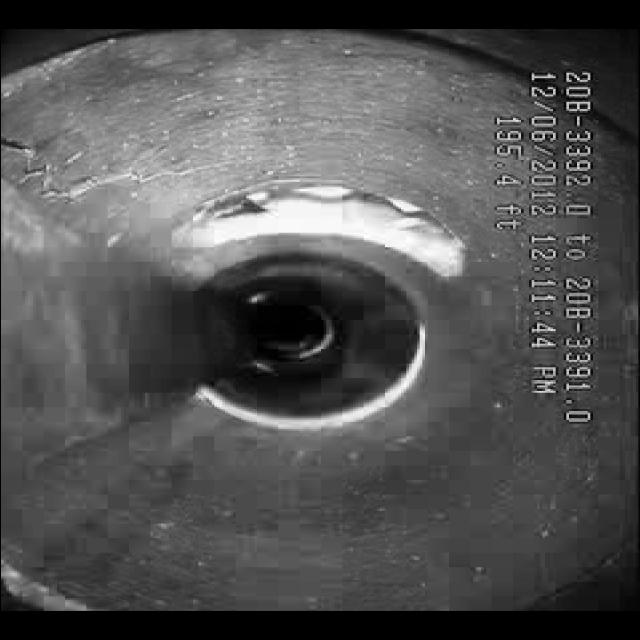Fracture: (11, 126, 222, 222)
